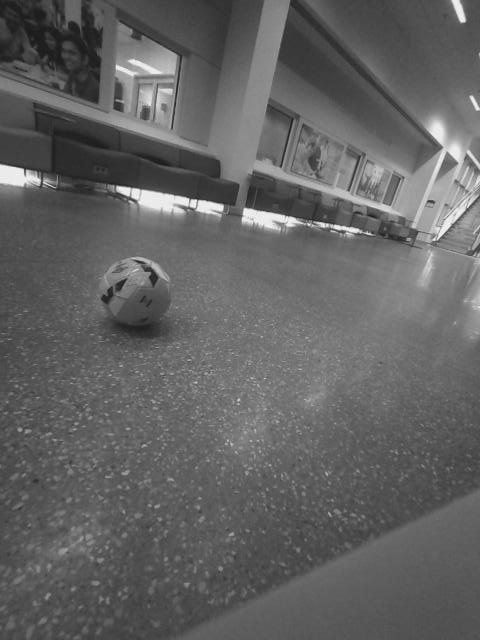ball: (211, 205, 271, 264)
